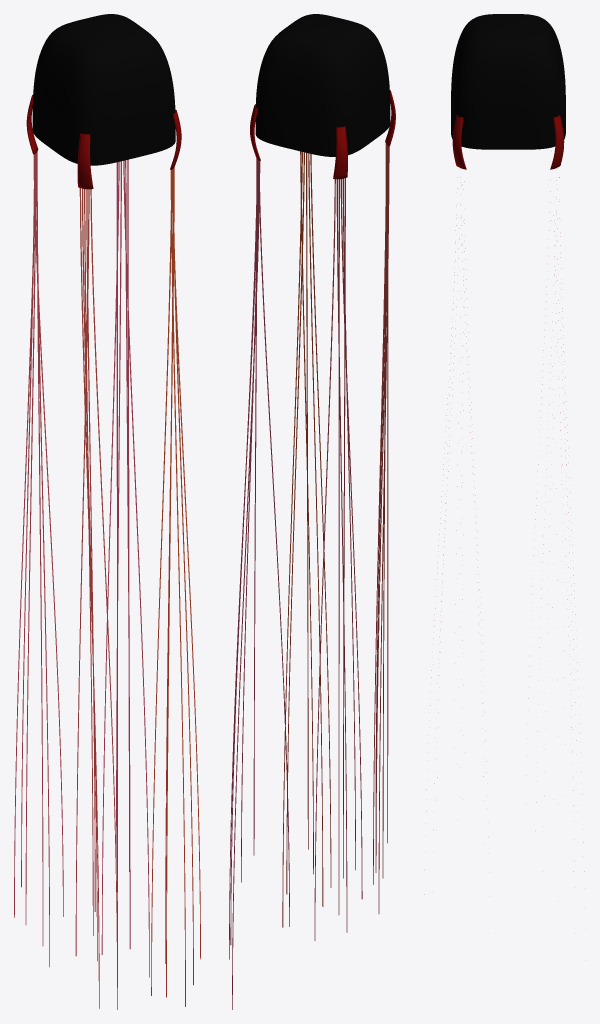
The model's file is box_jelly.glb.
3 renders of one model, left to right at view 1: azimuth 30°, elevation 25°; view 2: azimuth 150°, elevation 25°; view 3: azimuth 270°, elevation 25°, orthographic. The views are drawn at different scales.
Visible parts, largest first — view 1: box_jelly; view 2: box_jelly; view 3: box_jelly.
Part boxes in pixels (<box>): box_jelly: <box>14,14,200,1009</box>; box_jelly: <box>229,14,395,1009</box>; box_jelly: <box>424,14,584,894</box>.
Bounding box in the file's own units: 0.3383 × 2.39 × 0.3643.
